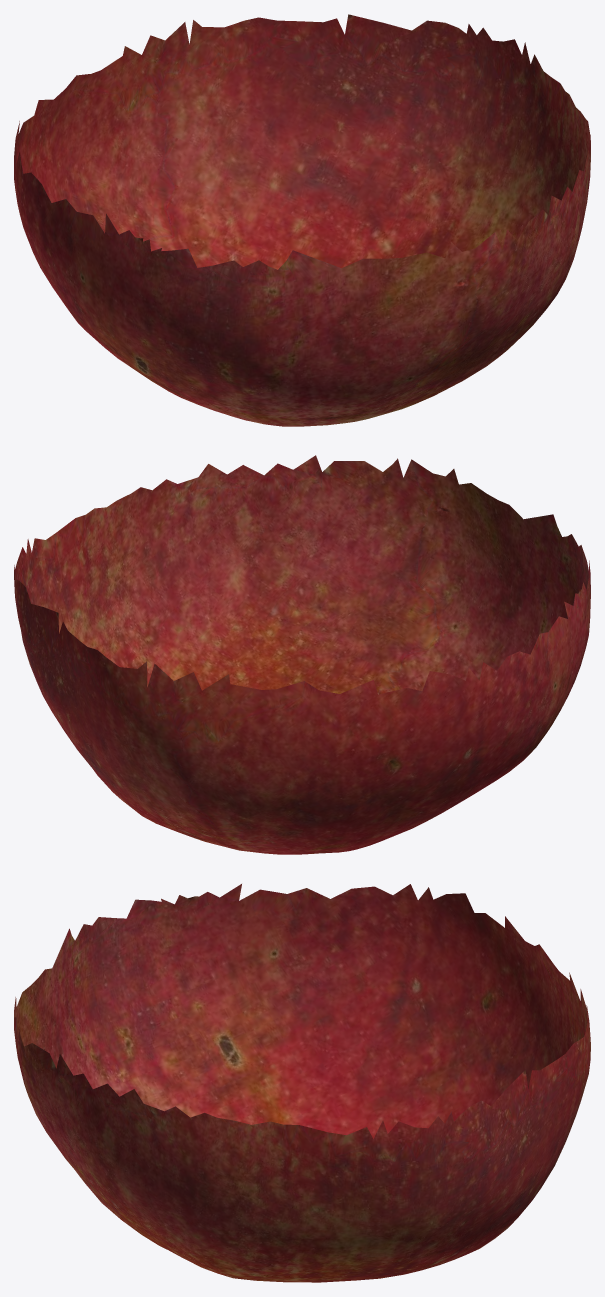
File: pomegranate.glb
3 renders of one model, top to bottom at view 1: azimuth 30°, elevation 25°; view 2: azimuth 150°, elevation 25°; view 3: azimuth 270°, elevation 25°, orthographic. The views are drawn at different scales.
Visible parts, largest first — view 1: food_pomegranate_01; view 2: food_pomegranate_01; view 3: food_pomegranate_01.
Part boxes in pixels (x1,y1,x2,y2): food_pomegranate_01: [14, 14, 590, 426]; food_pomegranate_01: [14, 455, 590, 854]; food_pomegranate_01: [14, 884, 590, 1282].
Size of the model in its own units: 0.1143 by 0.058 by 0.1154.
Materials: 1 (1 with a texture image).
